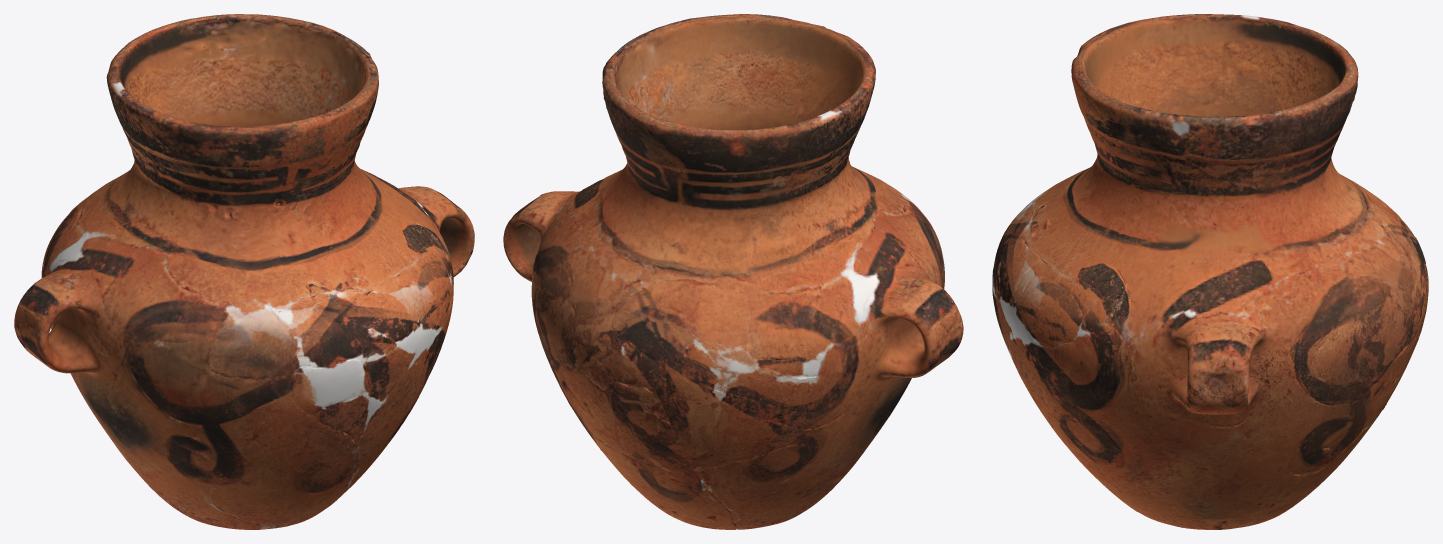
Rendered from assets__models__plaster-2.glb.
3 views of the same model, side by side, from view 1: azimuth 30°, elevation 25°; view 2: azimuth 150°, elevation 25°; view 3: azimuth 270°, elevation 25° (orthographic).
Visible parts, largest first — view 1: tripo_node_35c9581a-6e7a-46b6-876a-694704101e7b; view 2: tripo_node_35c9581a-6e7a-46b6-876a-694704101e7b; view 3: tripo_node_35c9581a-6e7a-46b6-876a-694704101e7b.
Boxes of the visible parts, x1=… form: tripo_node_35c9581a-6e7a-46b6-876a-694704101e7b: x1=14, y1=14, x2=474, y2=529; tripo_node_35c9581a-6e7a-46b6-876a-694704101e7b: x1=503, y1=14, x2=963, y2=529; tripo_node_35c9581a-6e7a-46b6-876a-694704101e7b: x1=992, y1=14, x2=1428, y2=529.
Size of the model in its own units: 1 by 0.9481 by 0.8617.
Materials: 1 (1 with a texture image).
